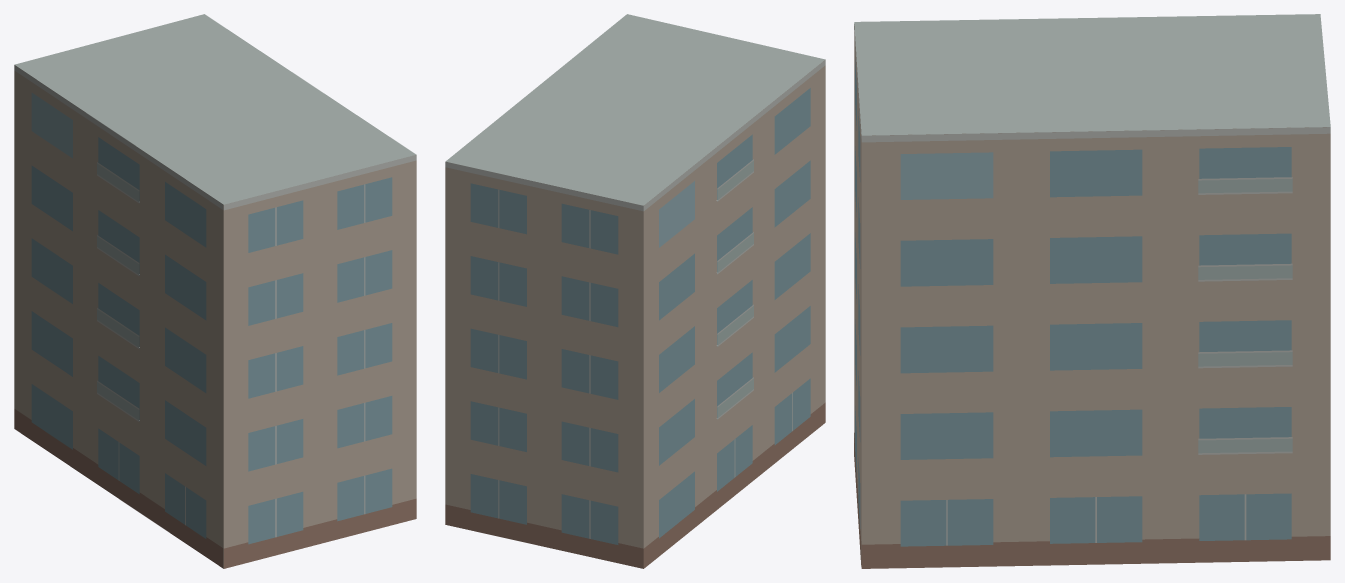
Rendered from survey-upis-32872237.glb.
3 views of the same model, side by side, from view 1: azimuth 30°, elevation 25°; view 2: azimuth 150°, elevation 25°; view 3: azimuth 270°, elevation 25° (orthographic). The views are drawn at different scales.
Parts seen in each view (by area): view 1: survey-upis-32872237.tmp; view 2: survey-upis-32872237.tmp; view 3: survey-upis-32872237.tmp.
Part boxes in pixels (left/top/right/bottom): survey-upis-32872237.tmp: left=14, top=14, right=416, bottom=568; survey-upis-32872237.tmp: left=445, top=14, right=825, bottom=568; survey-upis-32872237.tmp: left=854, top=14, right=1330, bottom=568.
Size of the model in its own units: 9.4 by 15.6 by 15.56.
